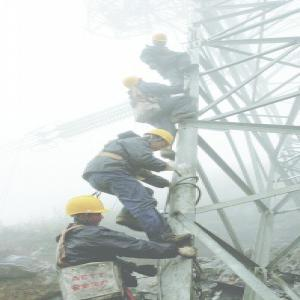yellow: (62, 193, 110, 228), (140, 128, 174, 152), (120, 76, 146, 89), (150, 33, 170, 48)
